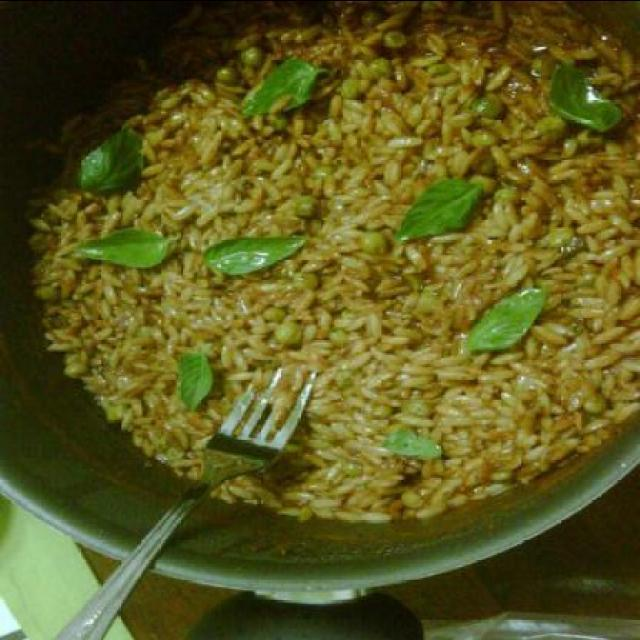Risotto: (29, 14, 633, 532)
